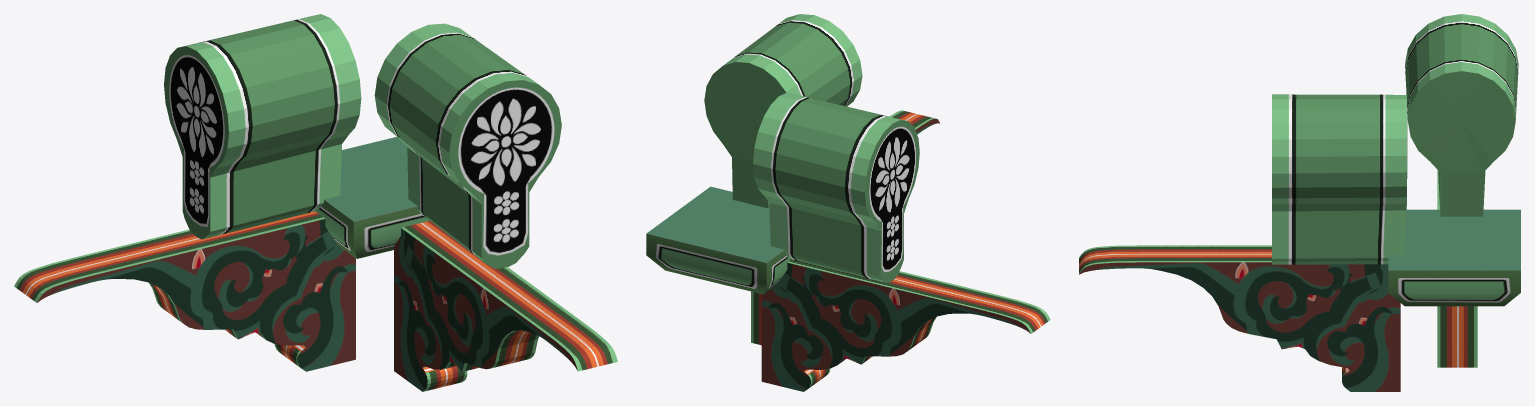
File: SM_R_DancheongCorner_5.fbx
The picture shows the model from 3 angles, left to right: view 1: azimuth 30°, elevation 25°; view 2: azimuth 150°, elevation 25°; view 3: azimuth 270°, elevation 25°; orthographic projection. The views are drawn at different scales.
Visible parts, largest first — view 1: SM_R_DancheongCorner_5_LOD0; view 2: SM_R_DancheongCorner_5_LOD0; view 3: SM_R_DancheongCorner_5_LOD0.
Part boxes in pixels (x1,y1,x2,y2): SM_R_DancheongCorner_5_LOD0: (14, 14, 617, 391); SM_R_DancheongCorner_5_LOD0: (646, 14, 1050, 391); SM_R_DancheongCorner_5_LOD0: (1079, 14, 1520, 391).
Size of the model in its own units: 99.43 by 101 by 73.75.
Materials: 3 (3 with a texture image).
